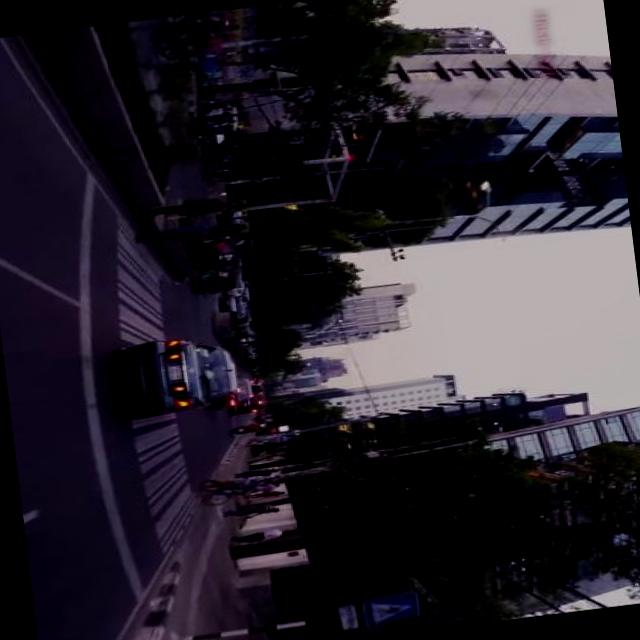car: (125, 332, 244, 420), (216, 377, 256, 410)
motorcycle: (195, 256, 248, 298), (232, 426, 258, 436)
truck: (200, 105, 245, 147)
